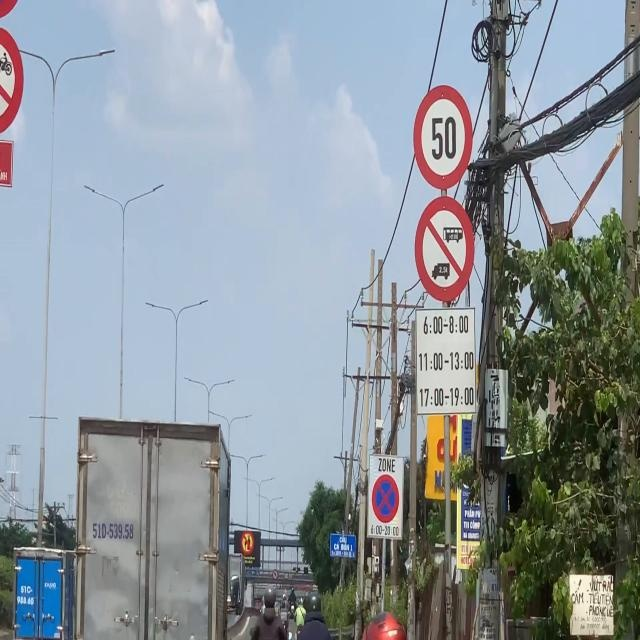bien_cam: (413, 84, 473, 190), (372, 474, 399, 523)
